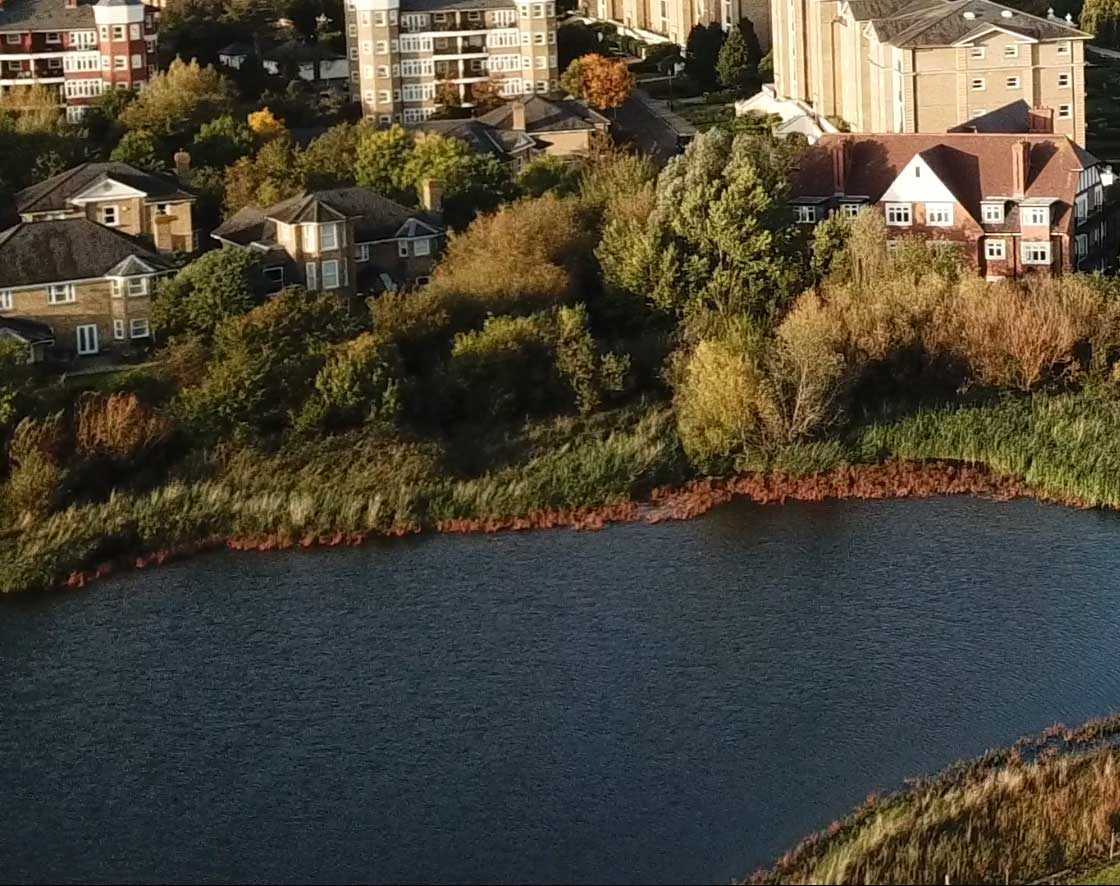building: (785, 113, 1110, 291), (767, 1, 1103, 147), (7, 159, 211, 357), (233, 181, 453, 298)
